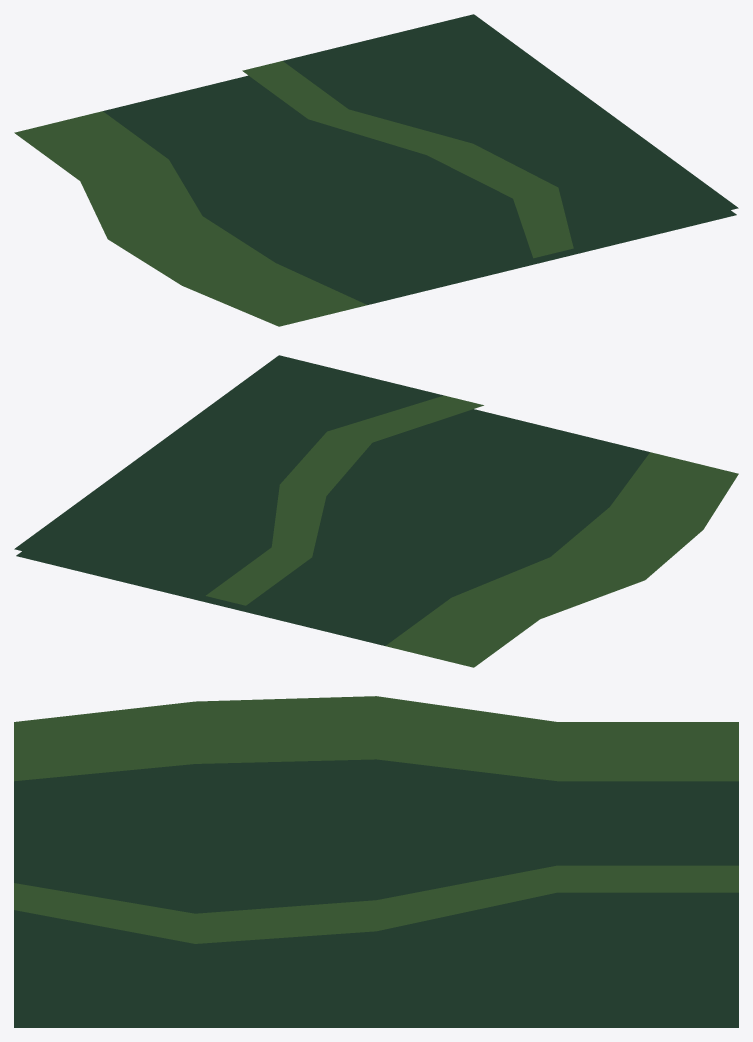
Rendered from waterShore.fbx.
The picture shows the model from 3 angles, top to bottom: view 1: azimuth 30°, elevation 25°; view 2: azimuth 150°, elevation 25°; view 3: azimuth 270°, elevation 25°; orthographic projection. The views are drawn at different scales.
Parts seen in each view (by area): view 1: Mesh_WaterShore; view 2: Mesh_WaterShore; view 3: Mesh_WaterShore.
Part boxes in pixels (<box>): Mesh_WaterShore: <box>14,14,738,326</box>; Mesh_WaterShore: <box>14,355,738,667</box>; Mesh_WaterShore: <box>14,696,738,1027</box>.
Bounding box in the file's own units: 4.35 × 4 × 0.0531.
